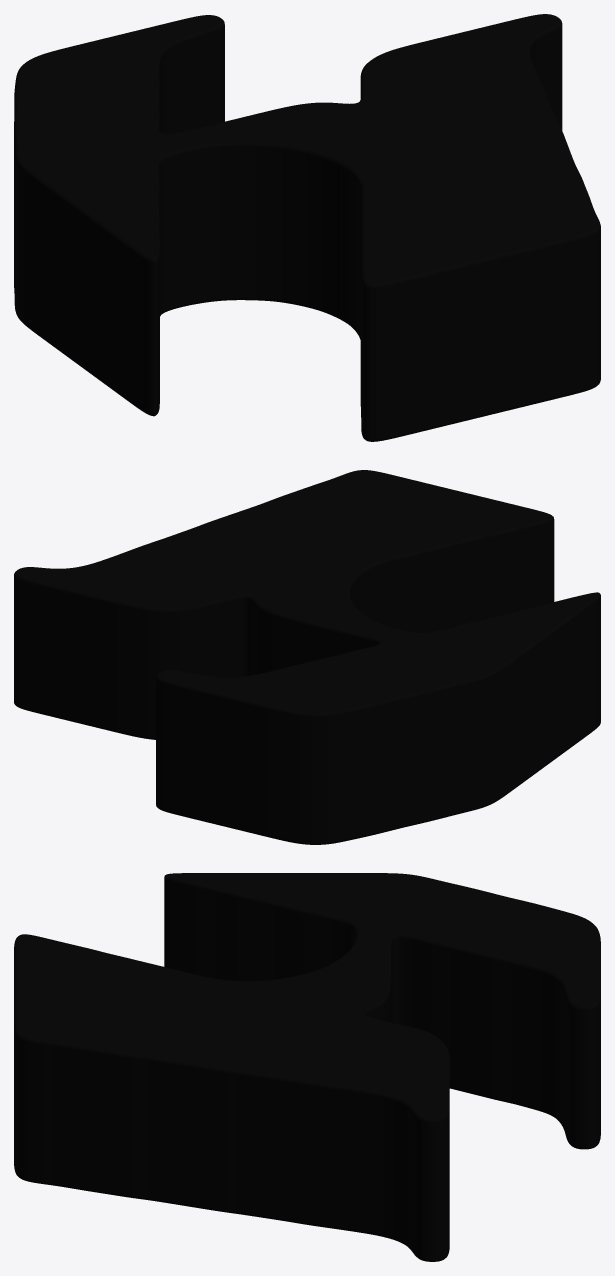
File: Hoya.gltf
3 views of the same model, one above another, from view 1: azimuth 30°, elevation 25°; view 2: azimuth 150°, elevation 25°; view 3: azimuth 270°, elevation 25° (orthographic). The views are drawn at different scales.
Visible parts, largest first — view 1: HOYA-BIT-Logo-1024x1024-2-03-1024x479.001; view 2: HOYA-BIT-Logo-1024x1024-2-03-1024x479.001; view 3: HOYA-BIT-Logo-1024x1024-2-03-1024x479.001.
Boxes of the visible parts, x1,y1,x2,y2 form: HOYA-BIT-Logo-1024x1024-2-03-1024x479.001: (14, 14, 600, 441); HOYA-BIT-Logo-1024x1024-2-03-1024x479.001: (14, 470, 600, 844); HOYA-BIT-Logo-1024x1024-2-03-1024x479.001: (14, 873, 600, 1261).
Bounding box in the file's own units: 0.7388 × 0.2 × 0.7408.
1 material, 1 textured.
